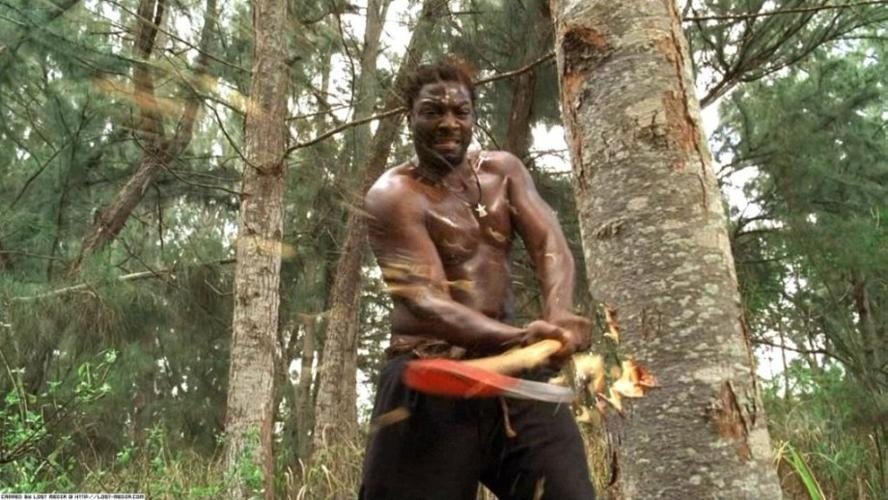person: (355, 55, 598, 500)
